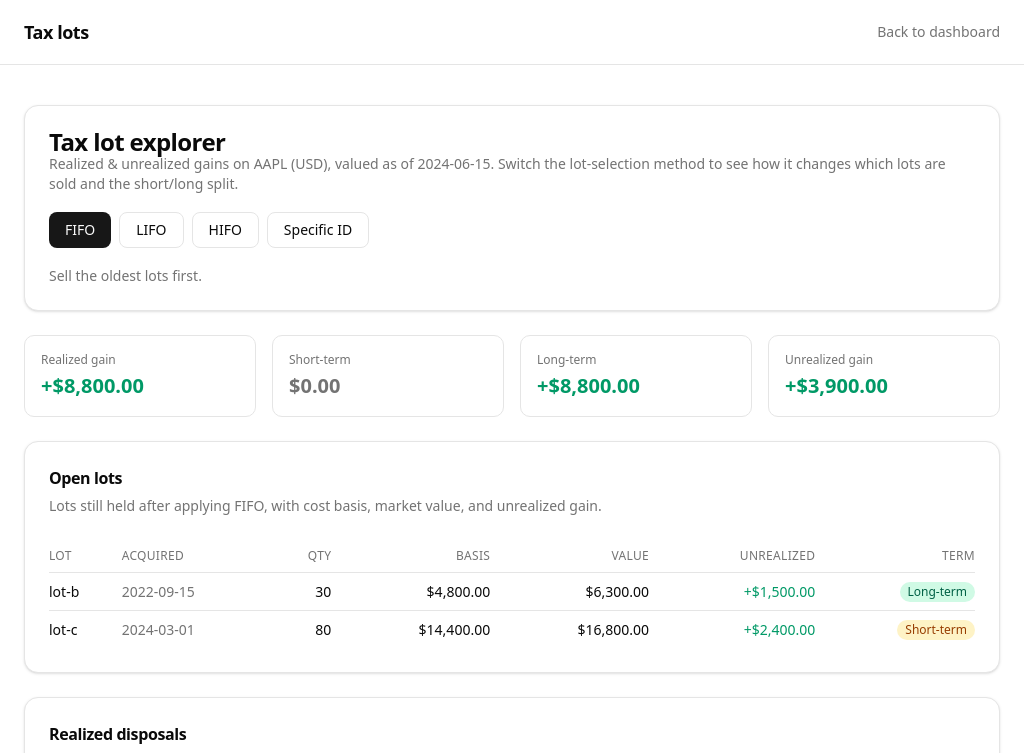
Scenario: TaxLotsPage › updates the method blurb when switching to LIFO
This screenshot has width=1024, height=753.
Click the button with test id "method-lifo".
click(151, 230)  # box [119, 212, 184, 248]
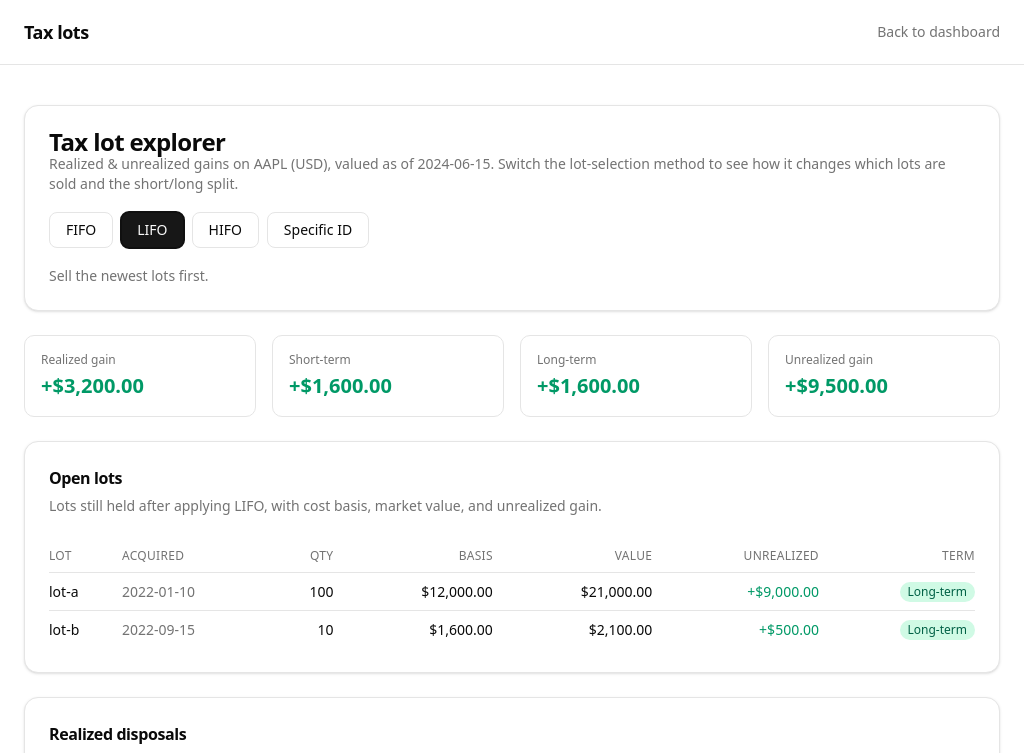
Result: the text with test id "method-blurb" shows "newest lots first" at [49, 266, 208, 285]
